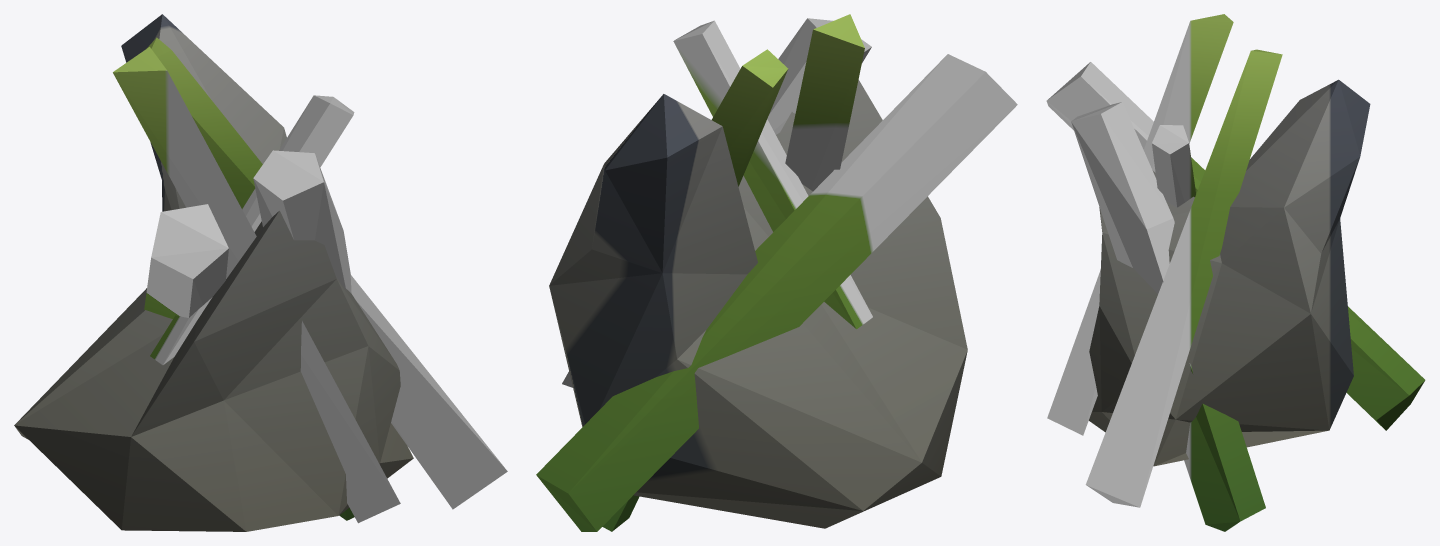
File: Fire_01.fbx
3 renders of one model, left to right at view 1: azimuth 30°, elevation 25°; view 2: azimuth 150°, elevation 25°; view 3: azimuth 270°, elevation 25°, orthographic. The views are drawn at different scales.
Visible parts, largest first — view 1: Fire_01; view 2: Fire_01; view 3: Fire_01.
Part boxes in pixels (x1,y1,x2,y2): Fire_01: [14, 14, 507, 531]; Fire_01: [536, 14, 1017, 531]; Fire_01: [1046, 14, 1425, 531].
Bounding box in the file's own units: 1.6 × 1.92 × 1.55.
